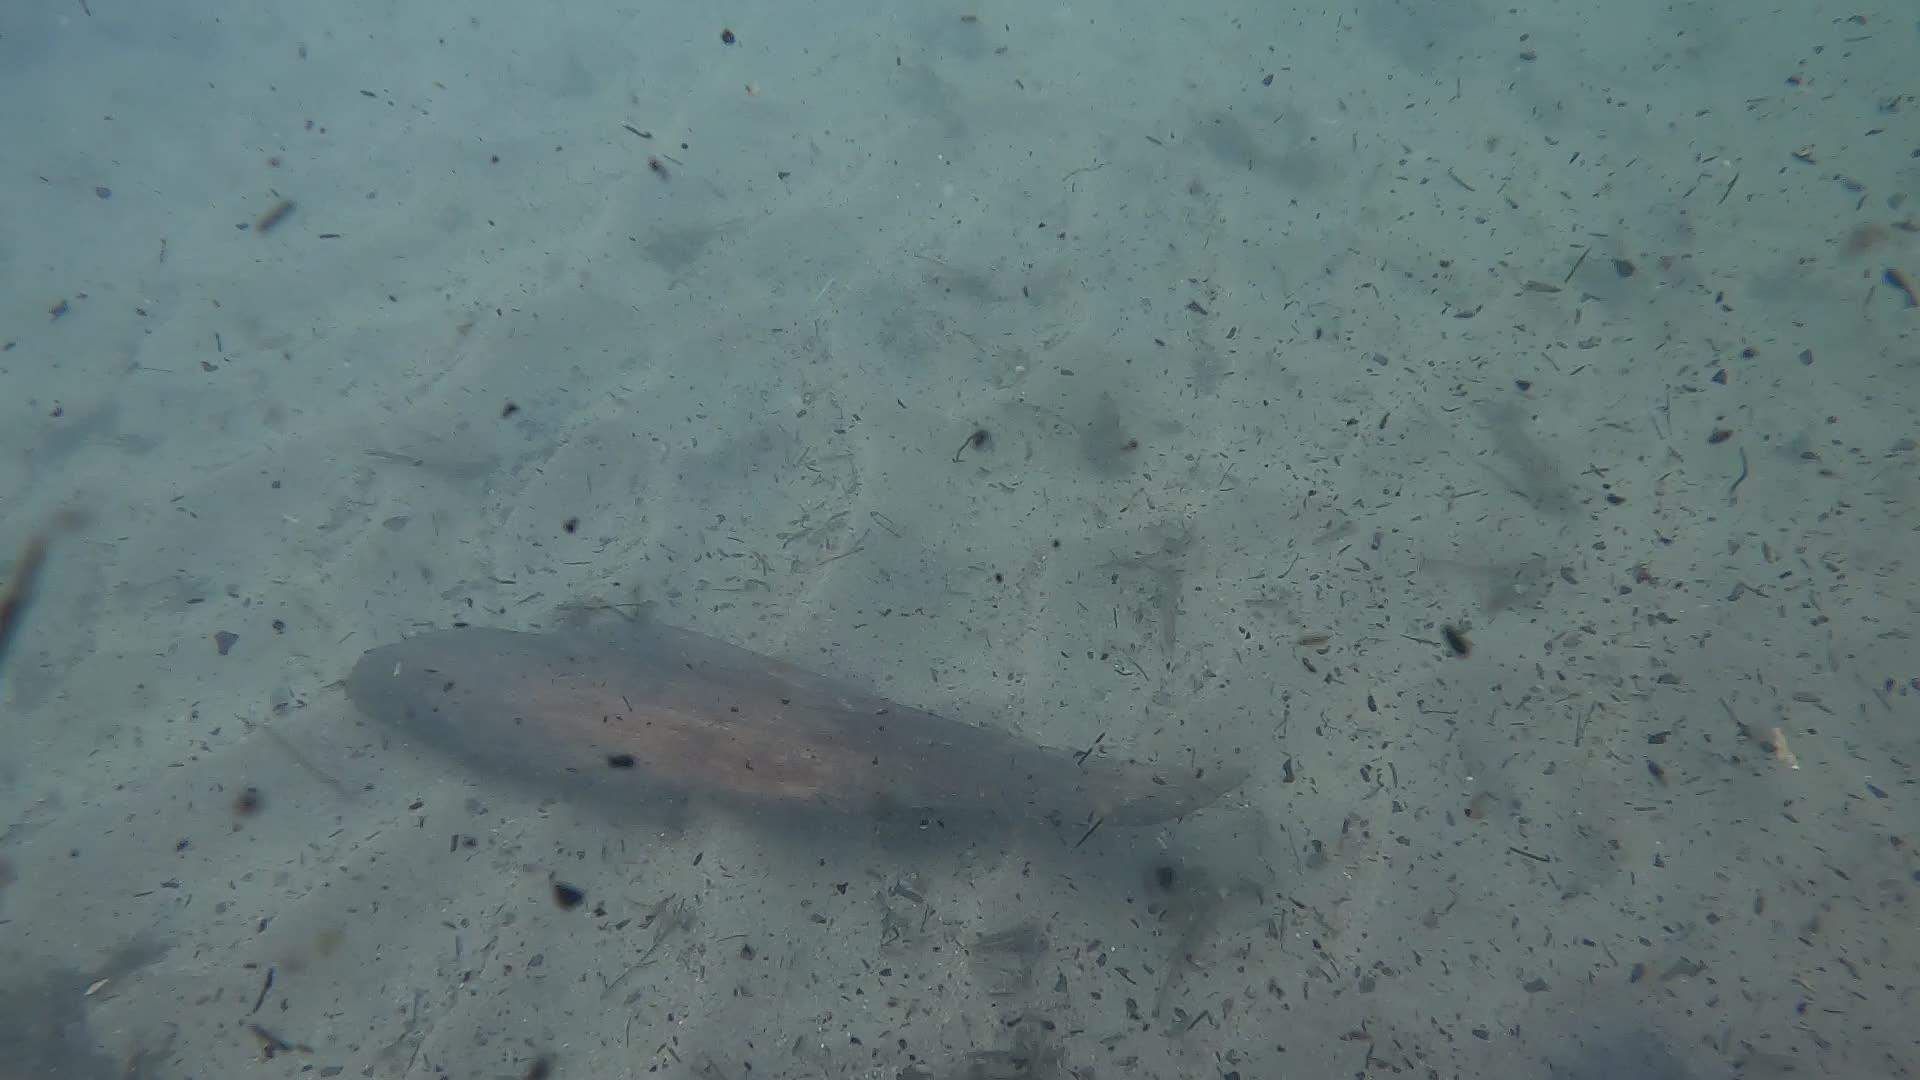wood: (342, 591, 1251, 828)
